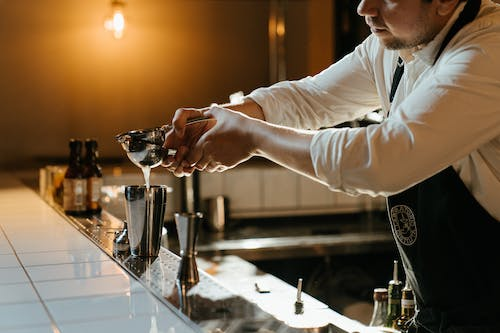alcohol: (123, 184, 167, 257)
